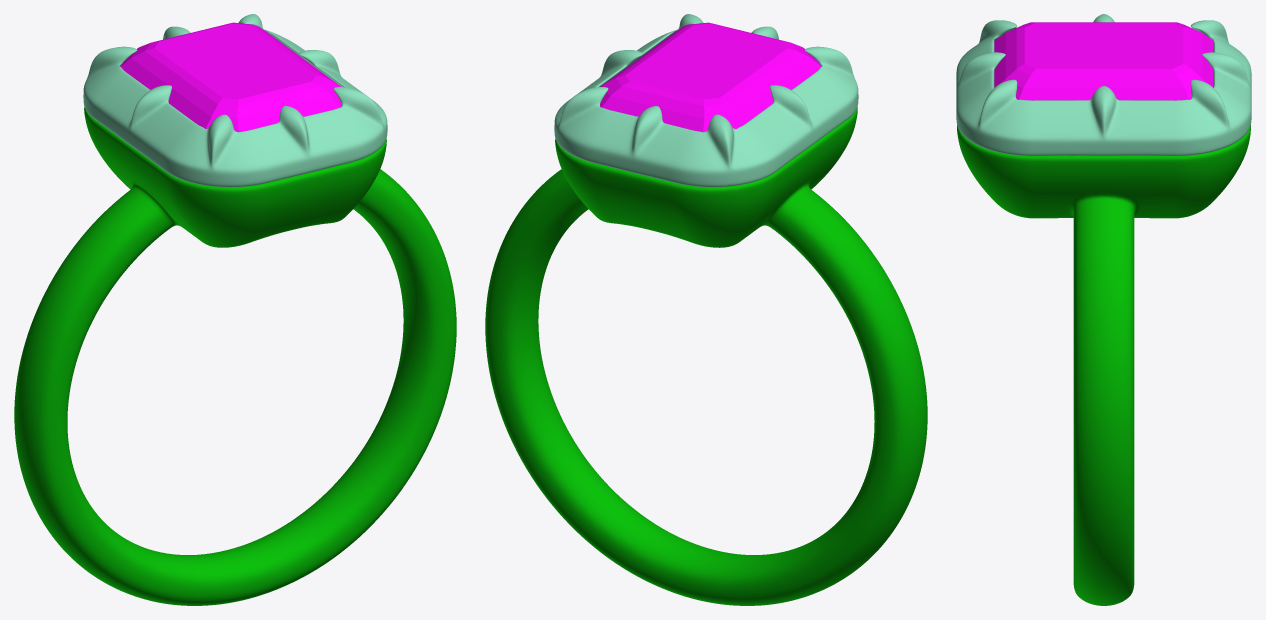
Rendered from BE1727_EM_200ct_RENDER.glb.
3 renders of one model, left to right at view 1: azimuth 30°, elevation 25°; view 2: azimuth 150°, elevation 25°; view 3: azimuth 270°, elevation 25°, orthographic.
Parts seen in each view (by area): view 1: Metal 01, Metal 02, CS_Diamond_Emerald; view 2: Metal 01, Metal 02, CS_Diamond_Emerald; view 3: Metal 01, Metal 02, CS_Diamond_Emerald.
Part boxes in pixels (box(x1,y1,x2,y2)): Metal 01: box(14, 107, 456, 605); Metal 02: box(83, 14, 387, 187); CS_Diamond_Emerald: box(120, 22, 342, 131); Metal 01: box(485, 107, 927, 605); Metal 02: box(554, 14, 858, 187); CS_Diamond_Emerald: box(600, 22, 821, 131); Metal 01: box(957, 125, 1250, 605); Metal 02: box(956, 14, 1251, 155); CS_Diamond_Emerald: box(994, 22, 1213, 100).
Size of the model in its own units: 20.49 by 24.32 by 12.13.
